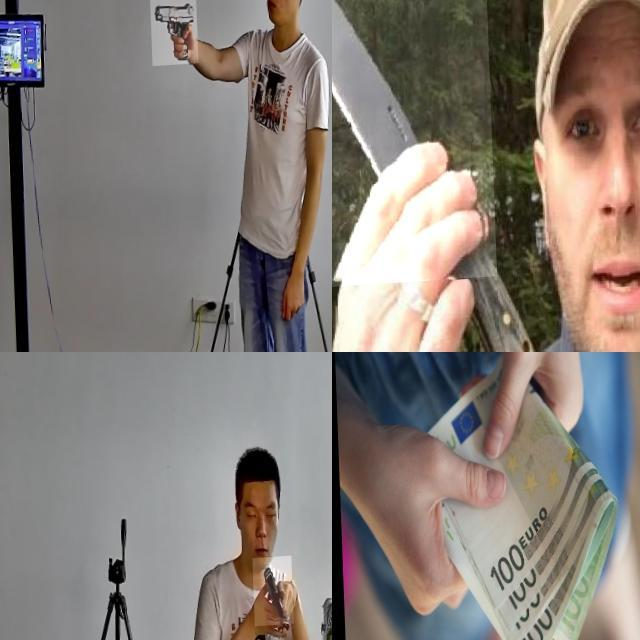-: (332, 0, 494, 290)
gun-knife-thesis - v11 Yolov5 augmented: (148, 0, 196, 68), (250, 562, 292, 632)
